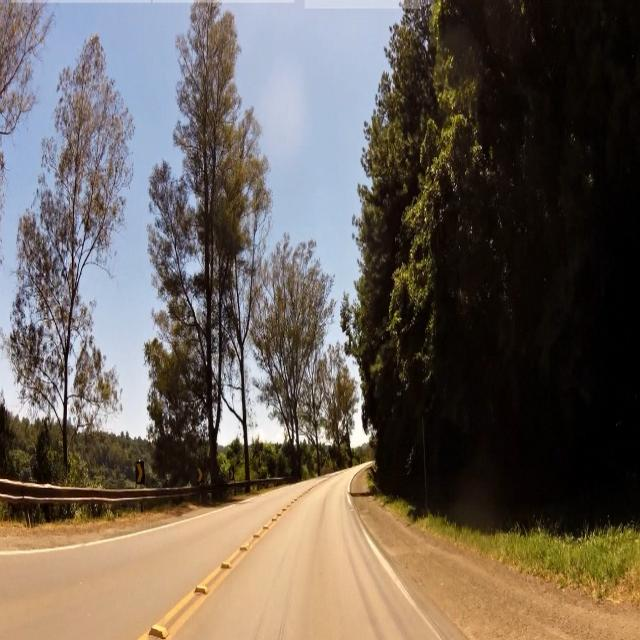Del: (136, 460, 144, 484), (196, 464, 202, 483)
